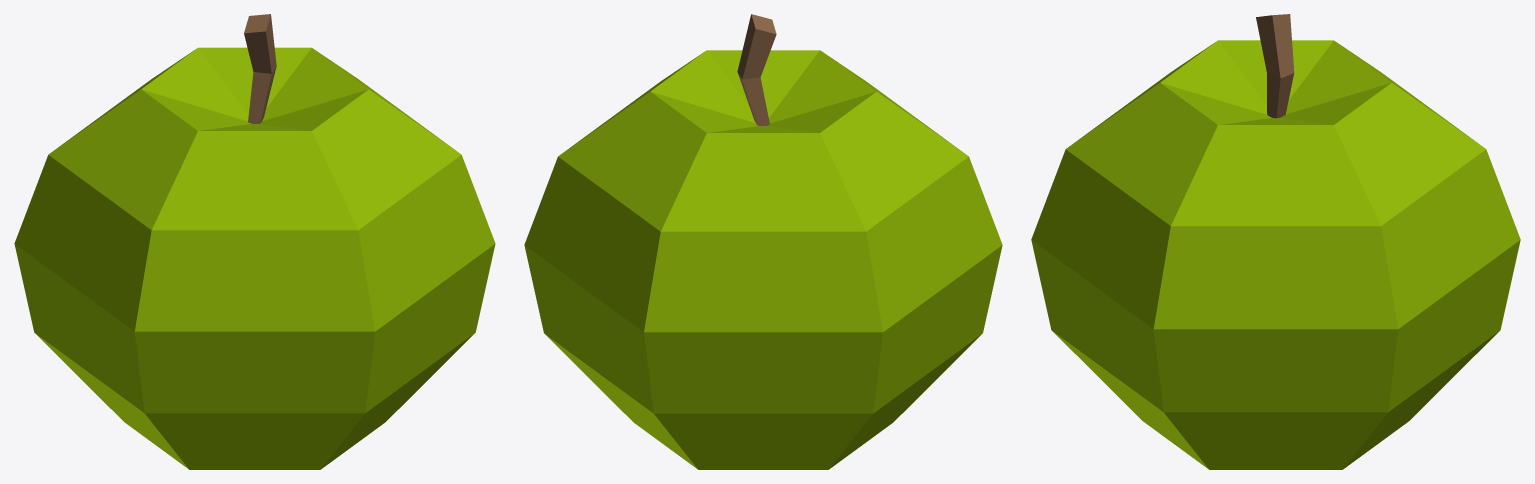
Rendered from Food_apple_green.glb.
3 views of the same model, side by side, from view 1: azimuth 30°, elevation 25°; view 2: azimuth 150°, elevation 25°; view 3: azimuth 270°, elevation 25° (orthographic). The views are drawn at different scales.
Visible parts, largest first — view 1: apple_001; view 2: apple_001; view 3: apple_001.
Boxes of the visible parts, <box> form: apple_001: <box>14,14,495,469</box>; apple_001: <box>524,14,1002,469</box>; apple_001: <box>1031,14,1520,469</box>.
Bounding box in the file's own units: 0.1616 × 0.1737 × 0.1866.
Materials: 1 (1 with a texture image).
